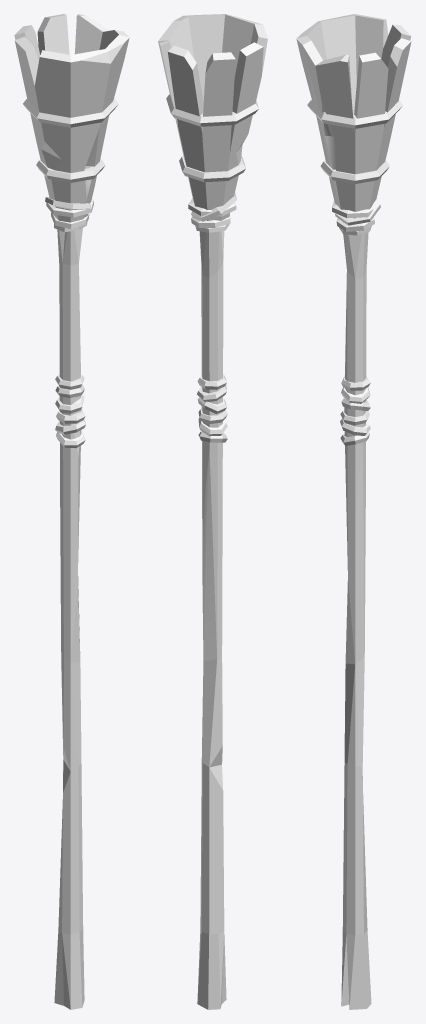
File: SM_Prop_Tiki_Torch_02.glb
3 renders of one model, left to right at view 1: azimuth 90°, elevation 25°; view 2: azimuth 210°, elevation 25°; view 3: azimuth 270°, elevation 25°, orthographic.
Visible parts, largest first — view 1: SM_Prop_Tiki_Torch_02; view 2: SM_Prop_Tiki_Torch_02; view 3: SM_Prop_Tiki_Torch_02.
Part boxes in pixels (bbox=[...]): SM_Prop_Tiki_Torch_02: bbox=[14, 14, 129, 1009]; SM_Prop_Tiki_Torch_02: bbox=[158, 14, 267, 1009]; SM_Prop_Tiki_Torch_02: bbox=[296, 14, 411, 1009].
Bounding box in the file's own units: 0.2475 × 2.31 × 0.2487.
1 material, 1 textured.
